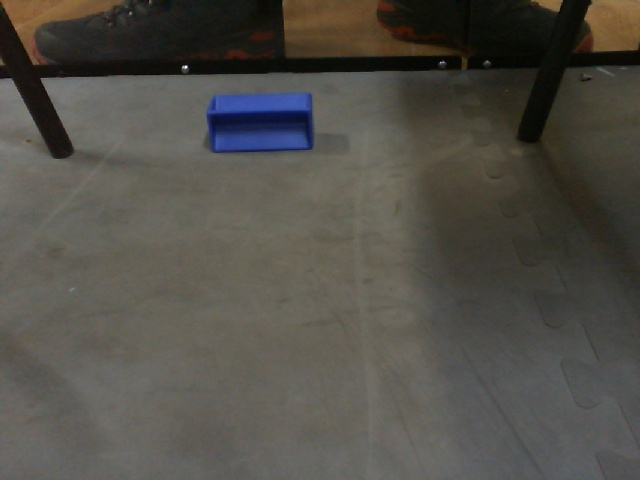BlueSample: (200, 87, 323, 158)
